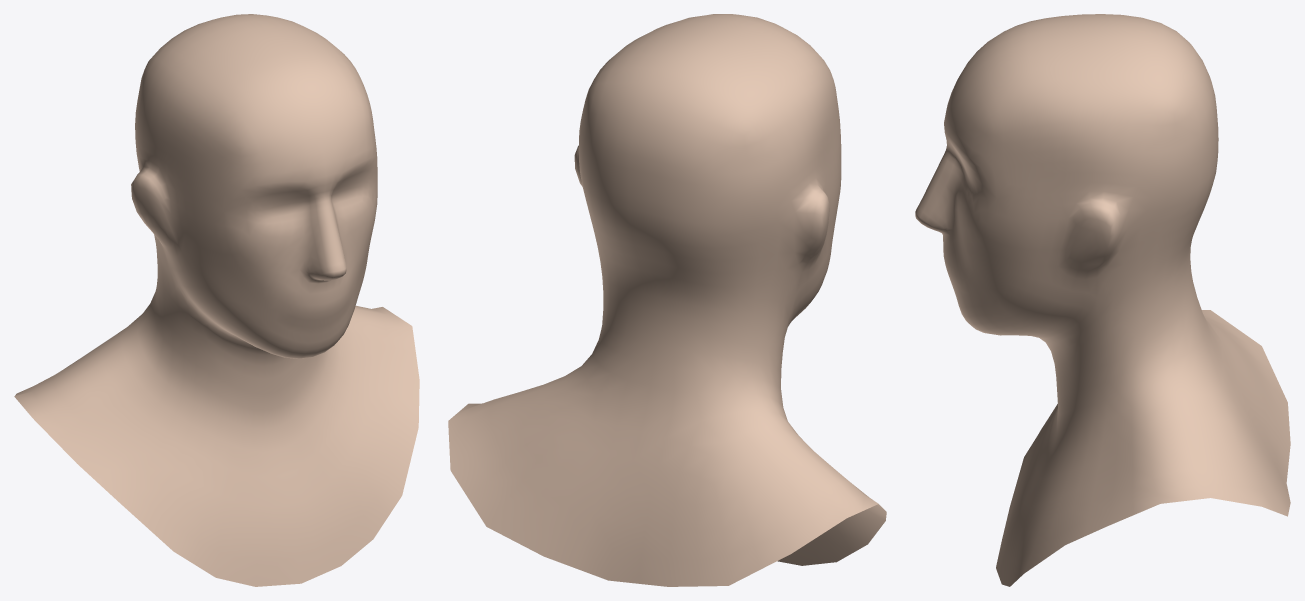
Rendered from Head.fbx.
The picture shows the model from 3 angles, left to right: view 1: azimuth 30°, elevation 25°; view 2: azimuth 150°, elevation 25°; view 3: azimuth 270°, elevation 25°; orthographic projection. The views are drawn at different scales.
Parts seen in each view (by area): view 1: BasicHead:basicHead; view 2: BasicHead:basicHead; view 3: BasicHead:basicHead.
Boxes of the visible parts, bbox=[...] form: BasicHead:basicHead: bbox=[14, 14, 419, 586]; BasicHead:basicHead: bbox=[448, 14, 886, 586]; BasicHead:basicHead: bbox=[915, 14, 1290, 586].
Size of the model in its own units: 10.68 by 13.89 by 8.75.
